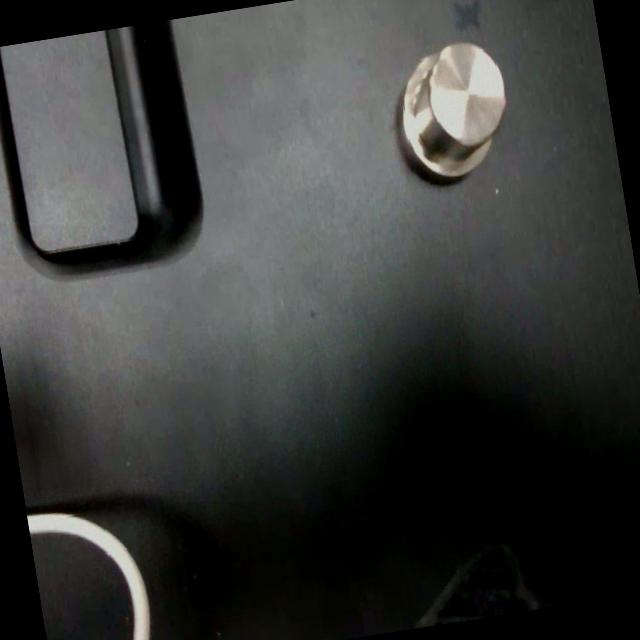sensor: (390, 32, 520, 186)
